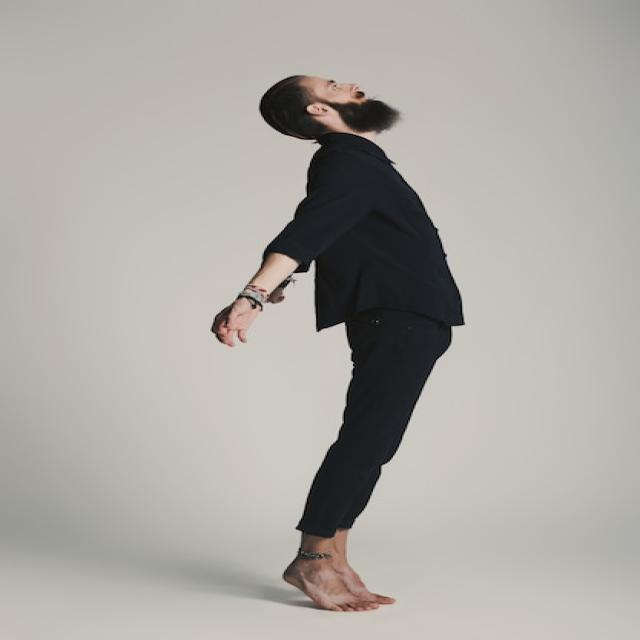Person: (213, 76, 464, 610)
